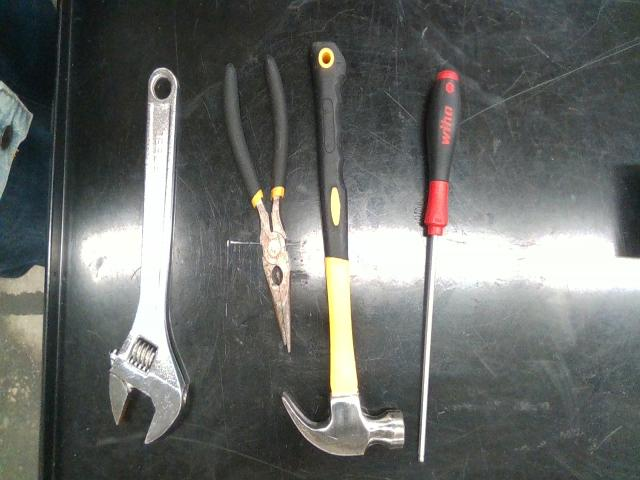Adjustable spanner: (109, 68, 188, 443)
Hammer: (282, 42, 405, 456)
Needle-nose pliers: (224, 55, 290, 351)
Screwdriver: (418, 70, 461, 461)
